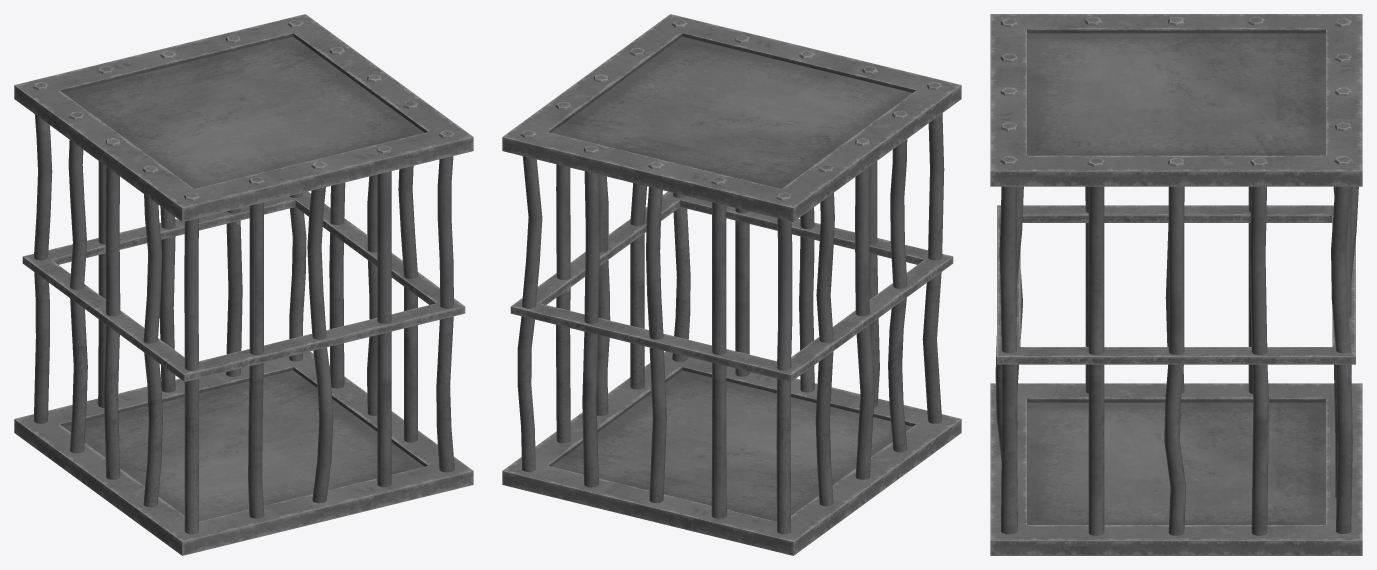
Rendered from cage_metal_03.fbx.
The picture shows the model from 3 angles, left to right: view 1: azimuth 30°, elevation 25°; view 2: azimuth 150°, elevation 25°; view 3: azimuth 270°, elevation 25°; orthographic projection. The views are drawn at different scales.
Visible parts, largest first — view 1: cage_metal_03; view 2: cage_metal_03; view 3: cage_metal_03.
Part boxes in pixels (x1=…): cage_metal_03: x1=14, y1=14, x2=473, y2=555; cage_metal_03: x1=502, y1=14, x2=961, y2=555; cage_metal_03: x1=990, y1=14, x2=1362, y2=555.
Size of the model in its own units: 224 by 257 by 224.
